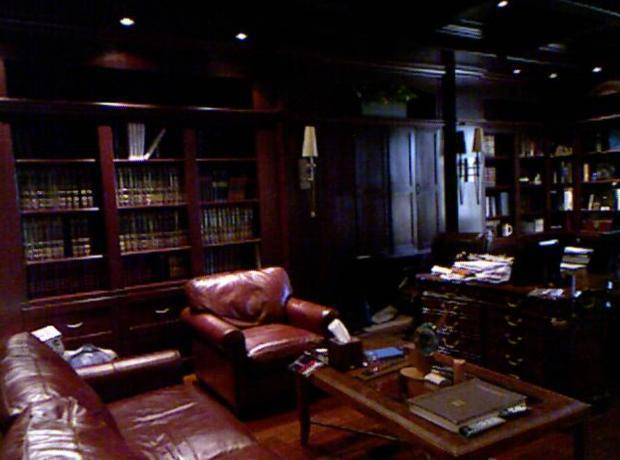Armario: (319, 119, 391, 315), (390, 117, 446, 316)
